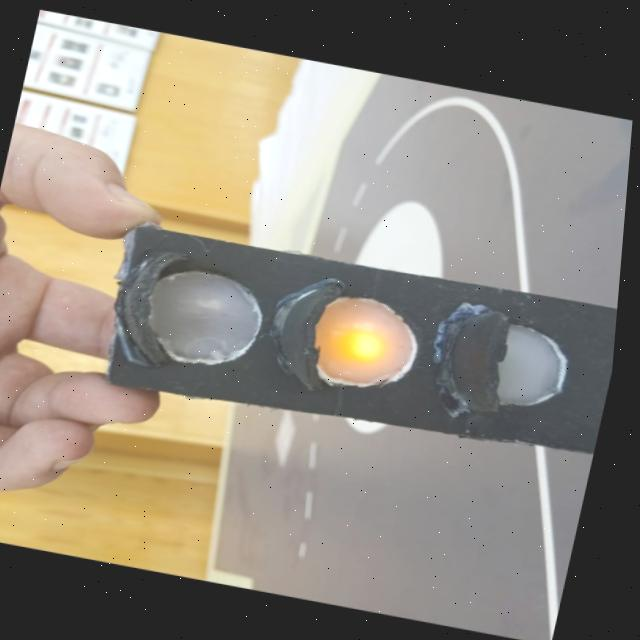trafic lights: (108, 226, 617, 455)
yellow: (314, 298, 417, 387)
